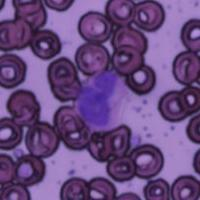N: (74, 68, 130, 132)
